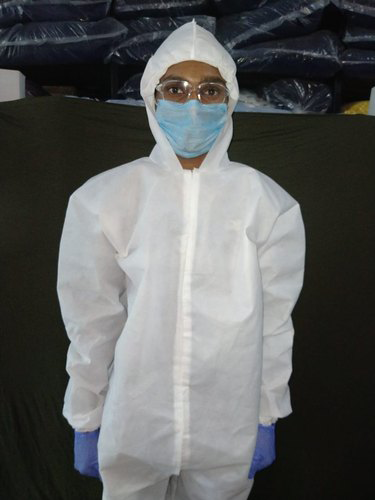Coverall: (52, 17, 309, 500)
Gloves: (247, 418, 284, 481), (72, 422, 105, 480)
with_mask: (155, 78, 227, 156)
